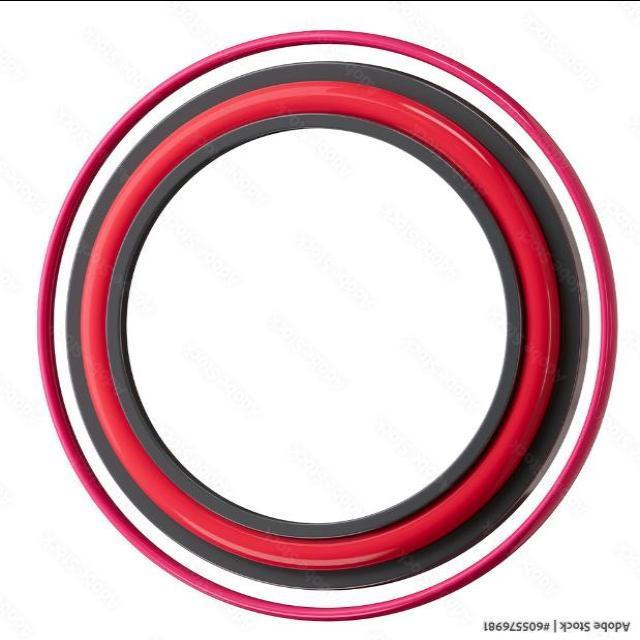Circle: (32, 22, 618, 626)
